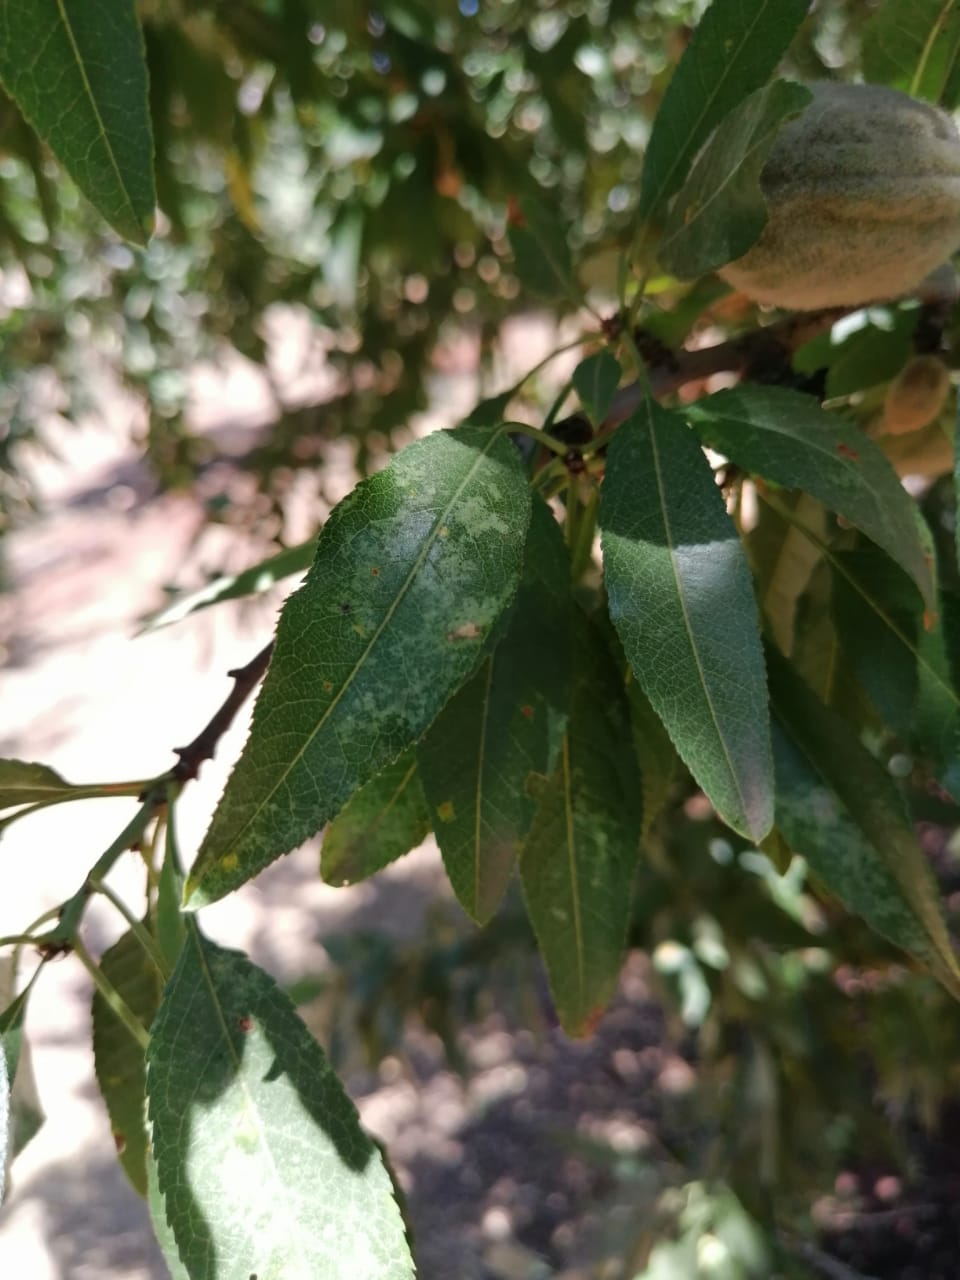faux tigre: (175, 423, 532, 918)
